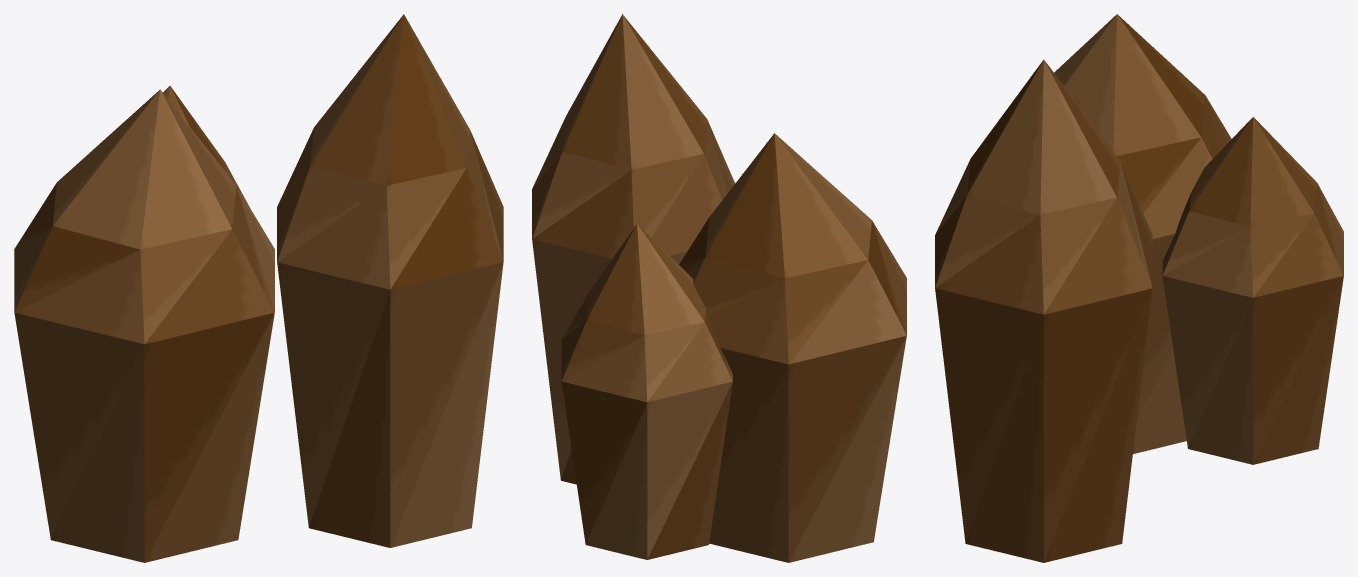
The model's file is rough.obj.
3 views of the same model, side by side, from view 1: azimuth 30°, elevation 25°; view 2: azimuth 150°, elevation 25°; view 3: azimuth 270°, elevation 25° (orthographic). The views are drawn at different scales.
Bounding box in the file's own units: 0.239 × 0.2684 × 0.1953.
1 material, 1 textured.
